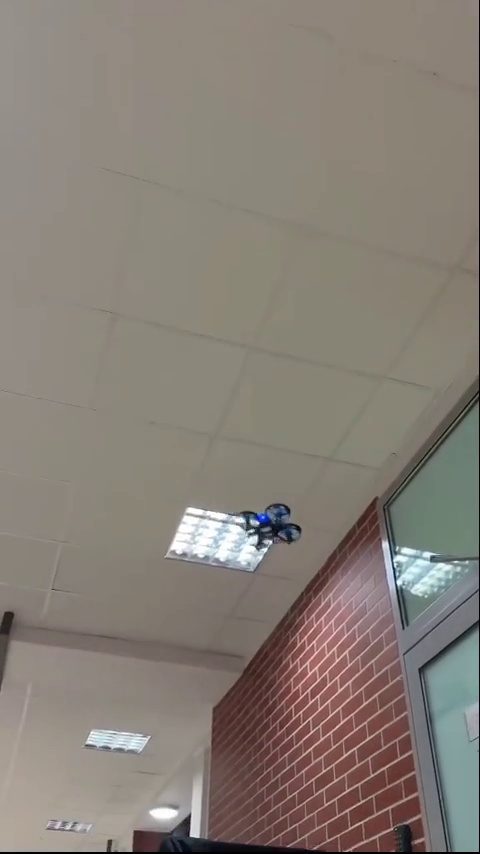drone: (236, 503, 295, 547)
